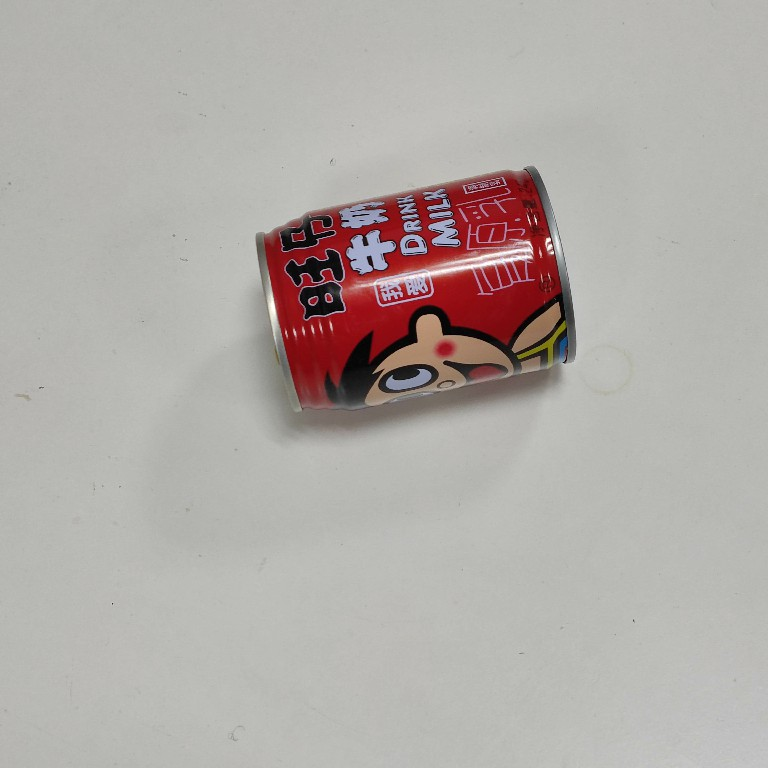can: (251, 160, 581, 423)
